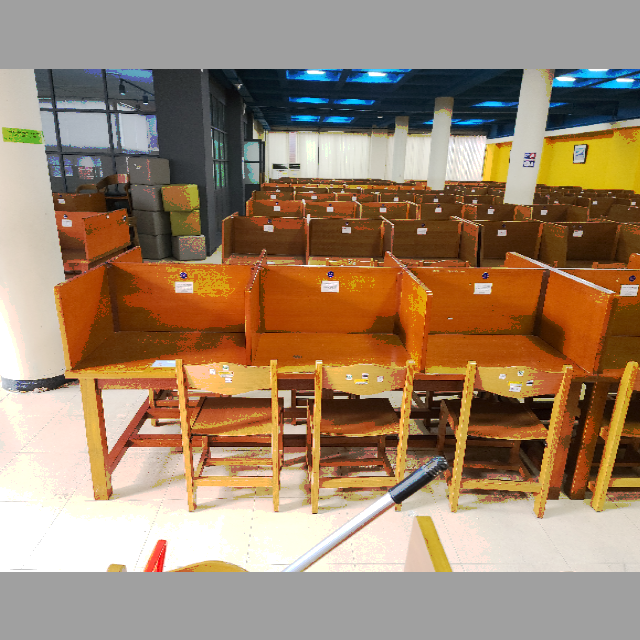empty: (63, 258, 253, 433), (432, 245, 597, 442), (259, 252, 425, 430)
